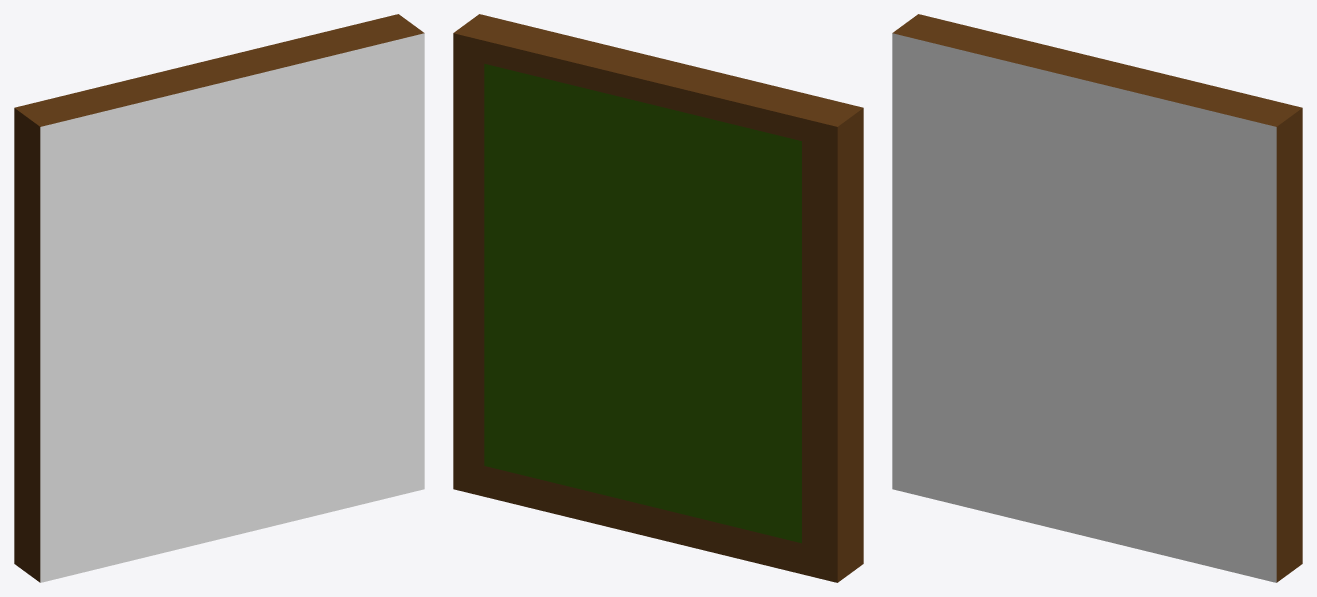
Rendered from Farm.dae.
3 views of the same model, side by side, from view 1: azimuth 30°, elevation 25°; view 2: azimuth 150°, elevation 25°; view 3: azimuth 330°, elevation 25° (orthographic).
Visible parts, largest first — view 1: SketchUp (×2); view 2: SketchUp (×2); view 3: SketchUp (×2).
Boxes of the visible parts, x1,y1,x2,y2 form: SketchUp (×2): (14, 14, 424, 582); SketchUp (×2): (453, 14, 863, 582); SketchUp (×2): (892, 14, 1302, 582).
Size of the model in its own units: 152 by 18 by 173.
